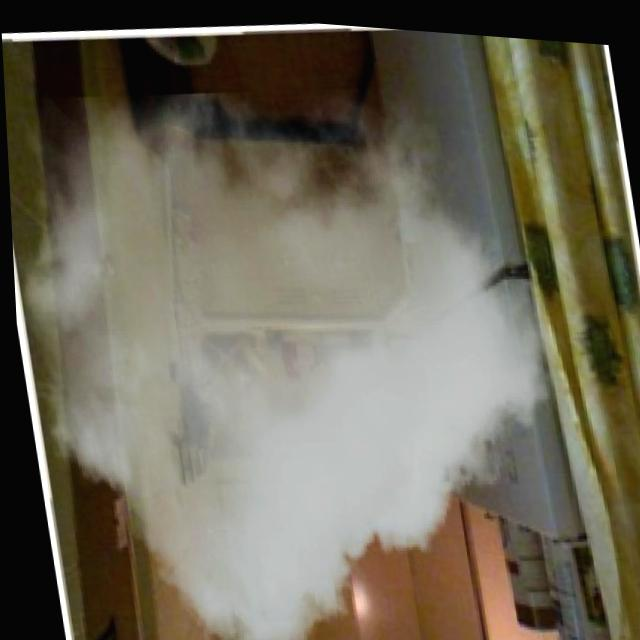Smoke: (4, 74, 583, 640)
